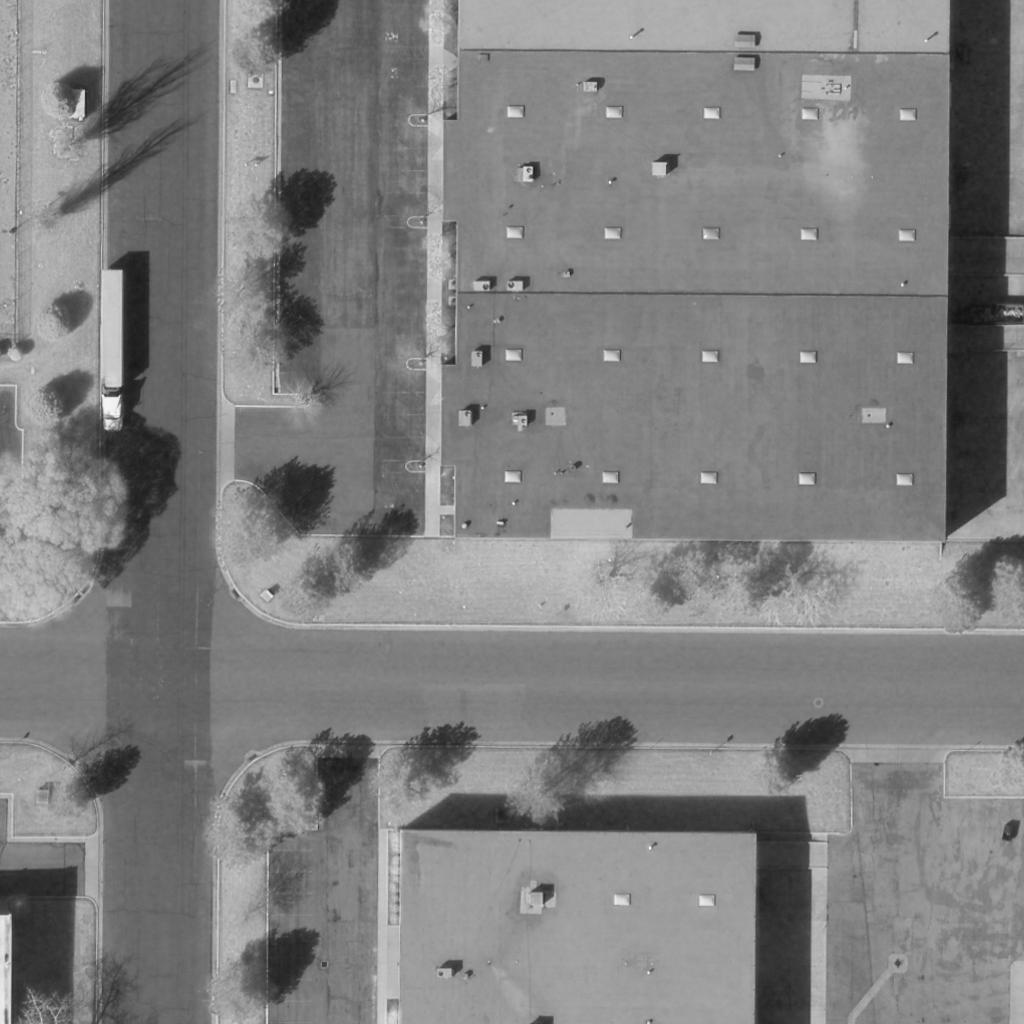vehicle: (102, 269, 126, 431)
